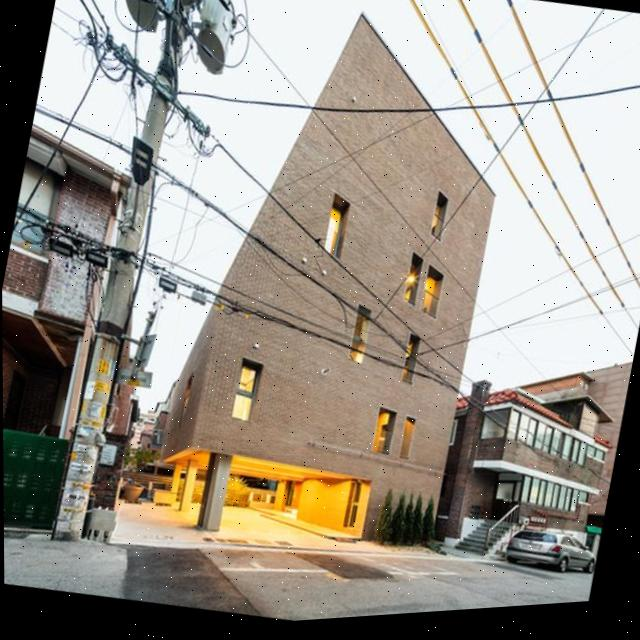building: (157, 0, 531, 582), (1, 106, 193, 535), (427, 344, 632, 580)
